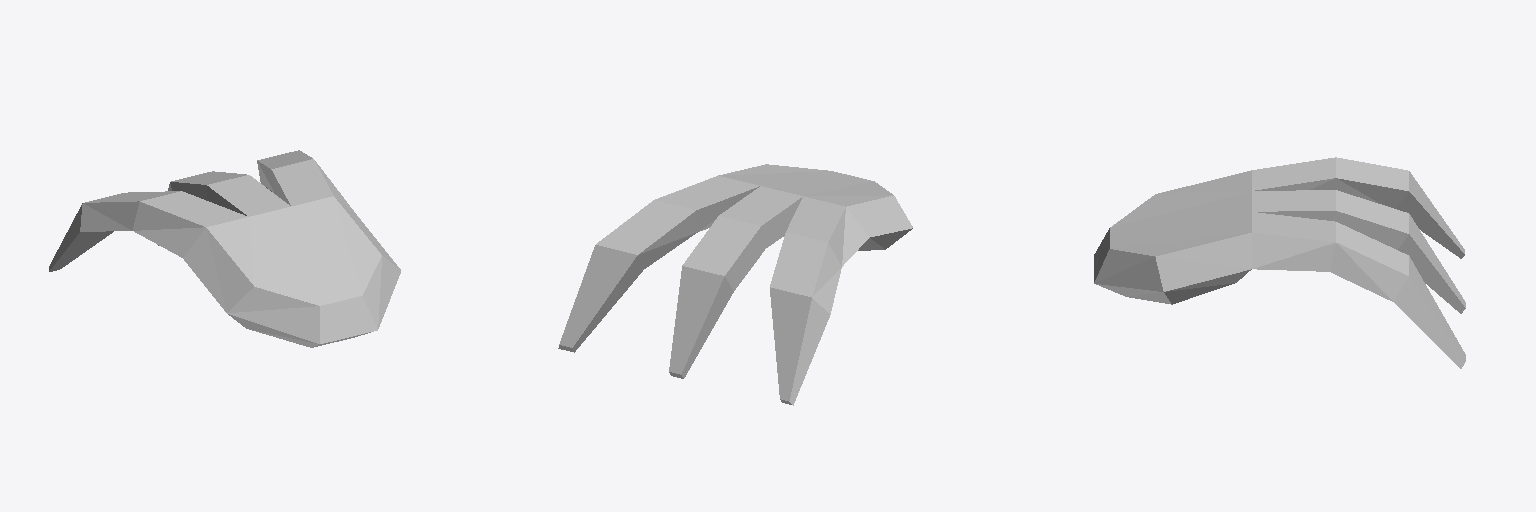
File: claw.obj
The picture shows the model from 3 angles: view 1: azimuth 30°, elevation 25°; view 2: azimuth 150°, elevation 25°; view 3: azimuth 270°, elevation 25°; orthographic projection.
Bounding box in the file's own units: 3.73 × 1.66 × 5.04.